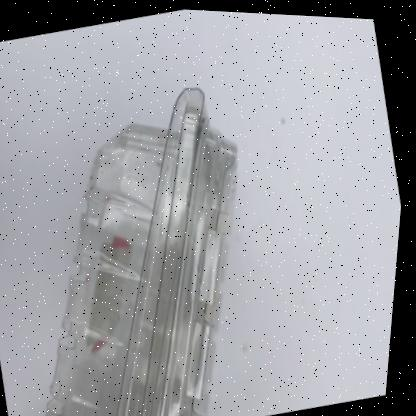Plastic: (54, 87, 240, 416)
